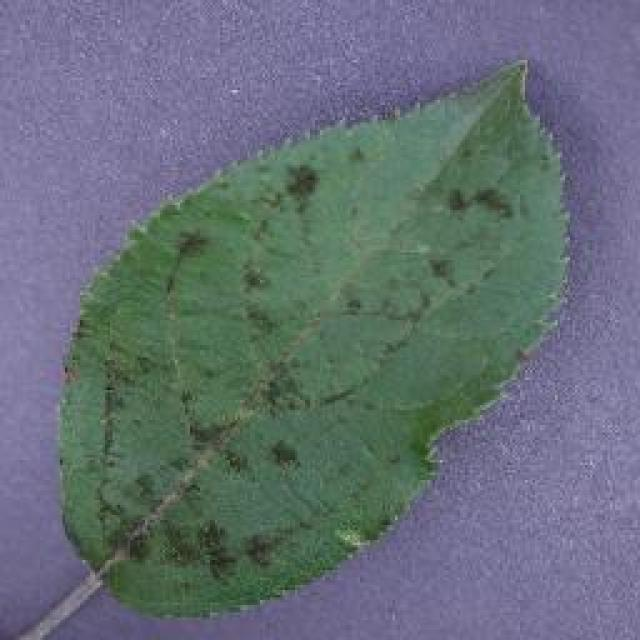apple scab disease: (53, 55, 575, 620)
